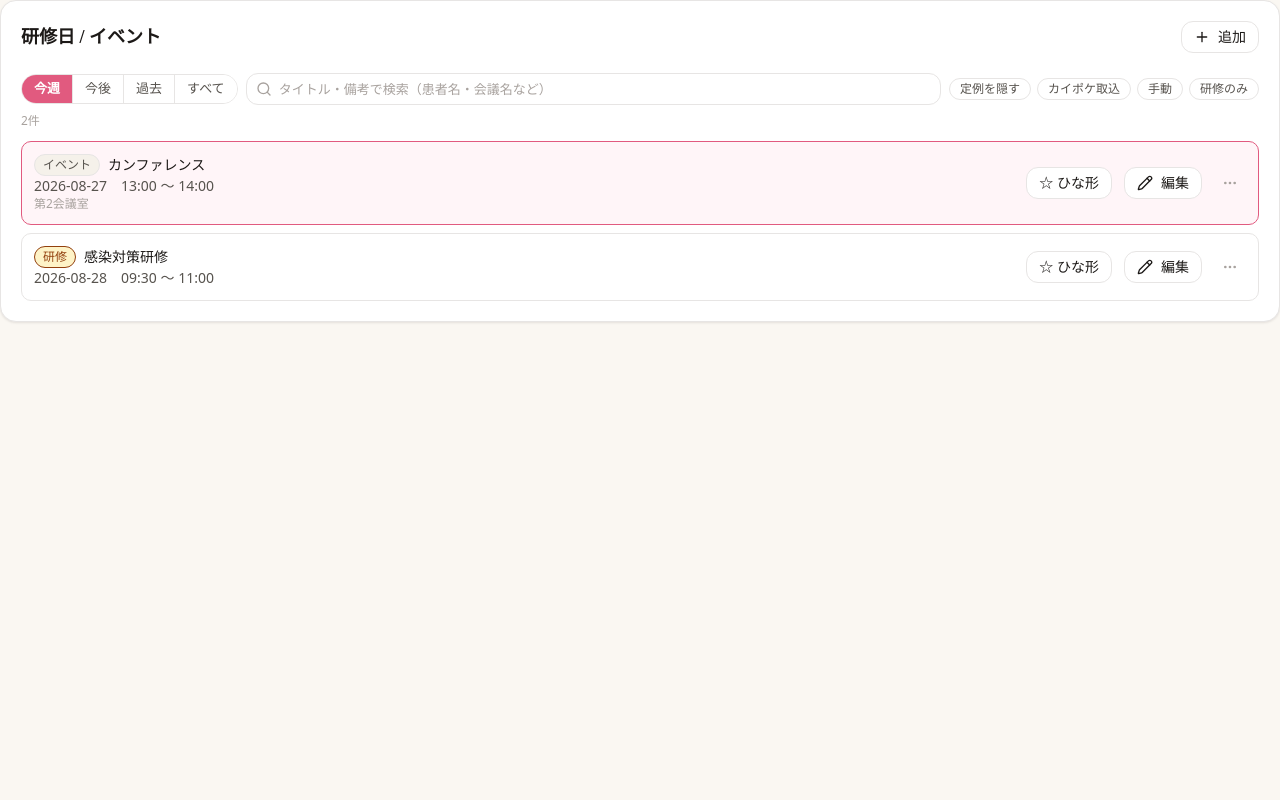
EventsCard — 既定タブ / ☆ ひな形 / ⋯ (PO 2026-08-25) › 2. 行の「☆ ひな形」1 クリックでひな形ダイアログが開き、内容が引き継がれる
Click the button with test id "event-row-save-template-ev-2" at point(1069, 267), box 1026,251 -> 1112,283
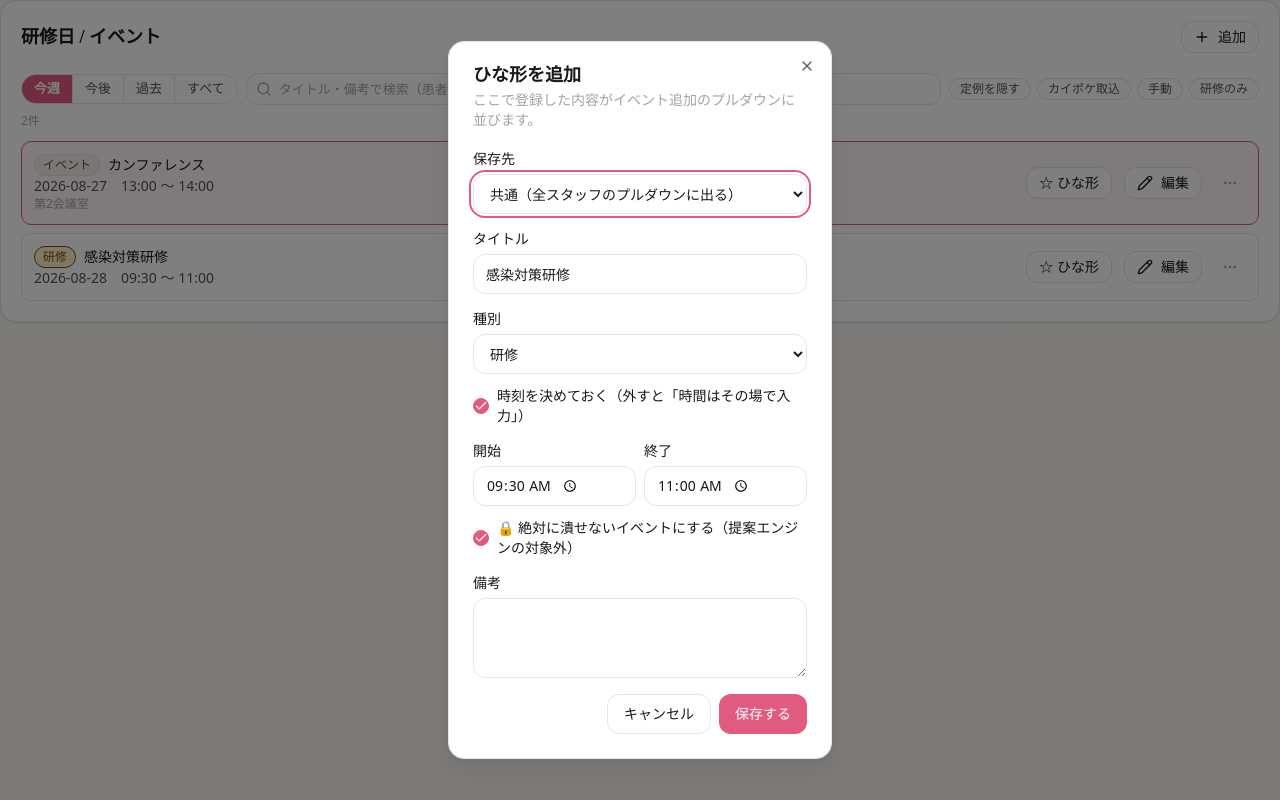
Check: the heading "ひな形を追加" is shown, box 473,65 -> 581,85
Check: the field labelled "タイトル" holds "感染対策研修", box 473,254 -> 807,294
Check: the dropdown labelled "種別" shows "研修", box 473,334 -> 807,374
